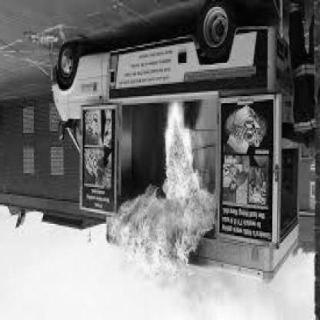Fire: (108, 107, 215, 289)
Smoke: (220, 278, 237, 304)
